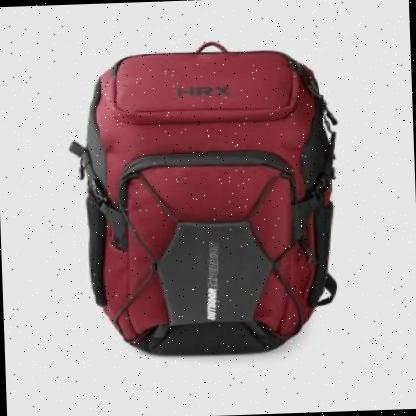bag: (60, 33, 351, 368)
